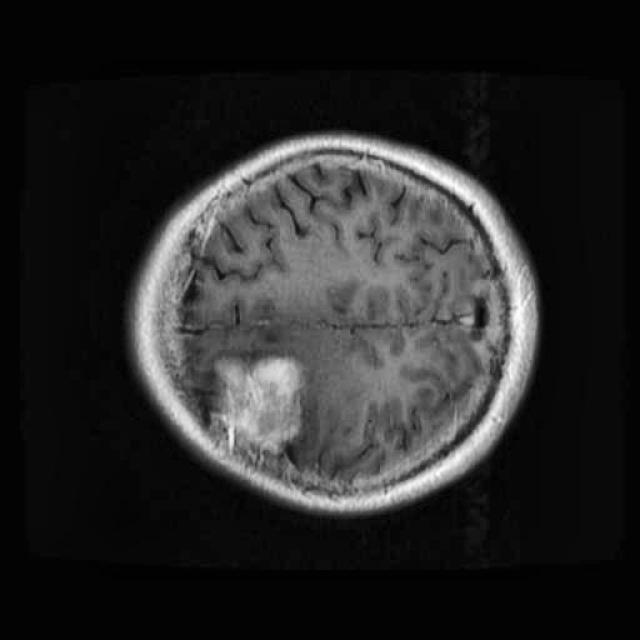Tumor: (194, 342, 323, 494)
